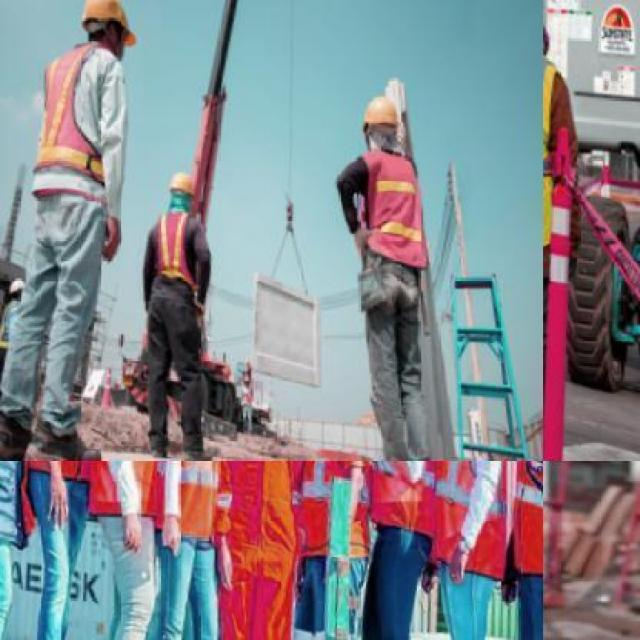vest: (185, 460, 322, 638), (23, 25, 128, 192), (338, 136, 437, 276), (417, 460, 514, 588), (279, 460, 383, 568), (135, 460, 237, 554), (350, 460, 444, 546), (71, 460, 175, 531), (492, 460, 542, 602), (543, 40, 574, 255), (140, 202, 198, 296), (0, 295, 18, 359)
